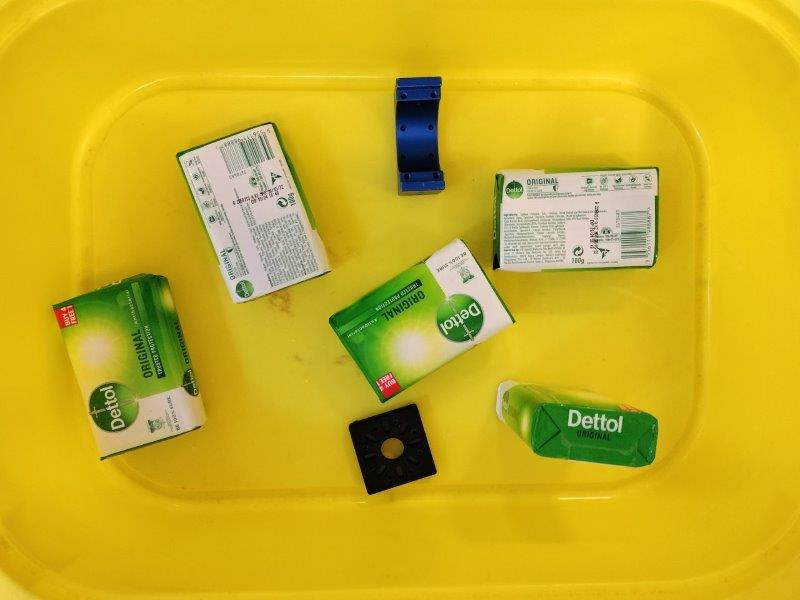Dettol: (328, 239, 516, 402), (51, 273, 210, 462), (179, 122, 333, 303), (492, 168, 662, 271), (495, 381, 659, 467)
